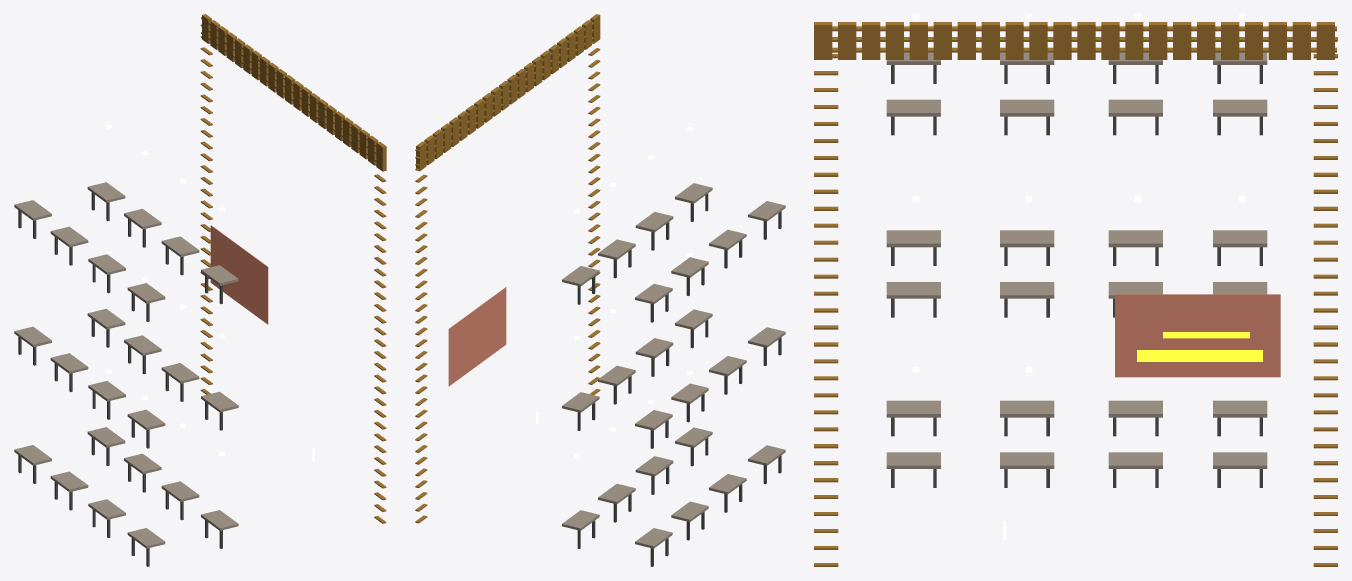
Rendered from 20261103-yellow-shop-detail.glb.
3 renders of one model, left to right at view 1: azimuth 30°, elevation 25°; view 2: azimuth 150°, elevation 25°; view 3: azimuth 270°, elevation 25°, orthographic. The views are drawn at different scales.
Parts seen in each view (by area): view 1: 075 dining tables by floor, 075 luminous canopy grille, 075 table legs, 075 golden surround tile seams, 075 middle floor original graphic artwork; view 2: 075 dining tables by floor, 075 luminous canopy grille, 075 table legs, 075 middle floor original graphic artwork, 075 golden surround tile seams; view 3: 075 dining tables by floor, 075 luminous canopy grille, 075 middle floor original graphic artwork, 075 golden surround tile seams, 075 table legs, 075 original artwork accent.
Boxes of the visible parts, x1,y1,x2,y2 form: 075 dining tables by floor: (14,182,238,548); 075 luminous canopy grille: (201,14,386,171); 075 table legs: (18,192,222,566); 075 golden surround tile seams: (200,24,386,523); 075 middle floor original graphic artwork: (210,225,268,324); 075 dining tables by floor: (562,183,785,548); 075 luminous canopy grille: (415,14,600,171); 075 table legs: (577,193,781,566); 075 middle floor original graphic artwork: (448,287,506,386); 075 golden surround tile seams: (415,26,600,523); 075 dining tables by floor: (886,52,1267,468); 075 luminous canopy grille: (814,22,1336,59); 075 middle floor original graphic artwork: (1115,294,1280,377); 075 golden surround tile seams: (814,37,1337,566); 075 table legs: (891,65,1262,487); 075 original artwork accent: (1137,332,1262,361).
Size of the model in its own units: 8.21 by 14.18 by 12.04.
